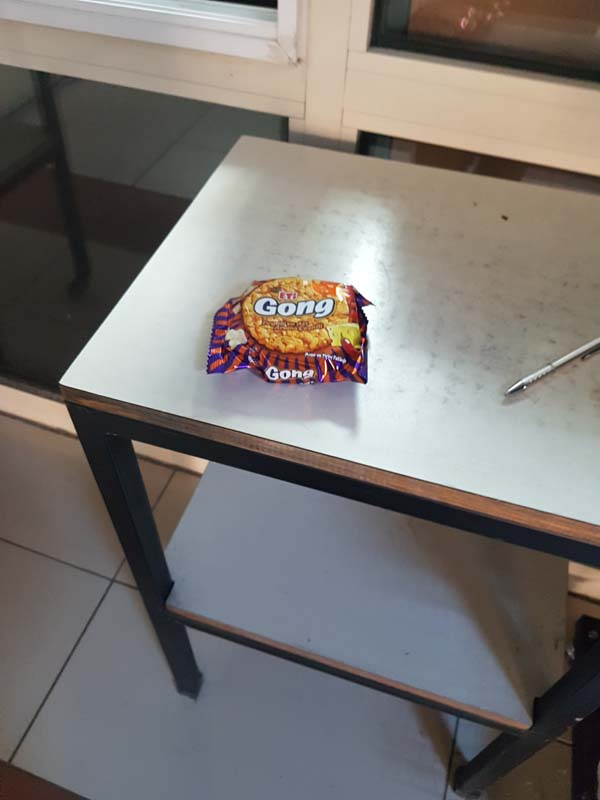etigong: (210, 284, 369, 385)
